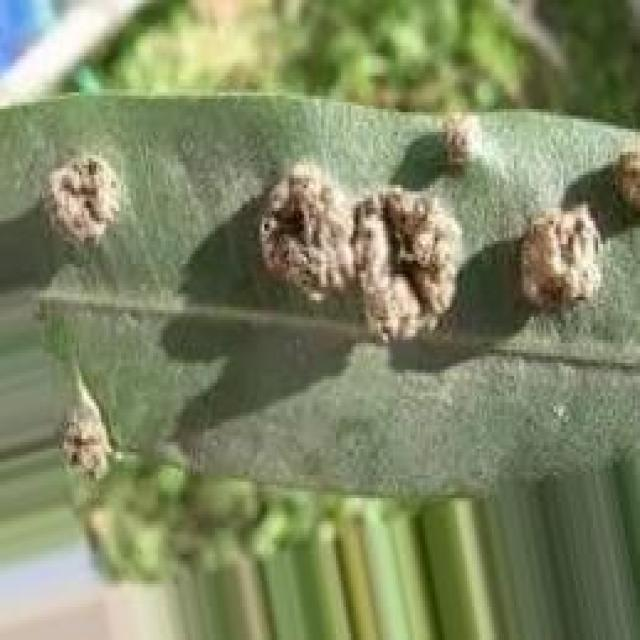Tuberculosis: (259, 162, 460, 340), (521, 201, 600, 310), (42, 152, 121, 244), (67, 412, 111, 475), (442, 115, 487, 172)
